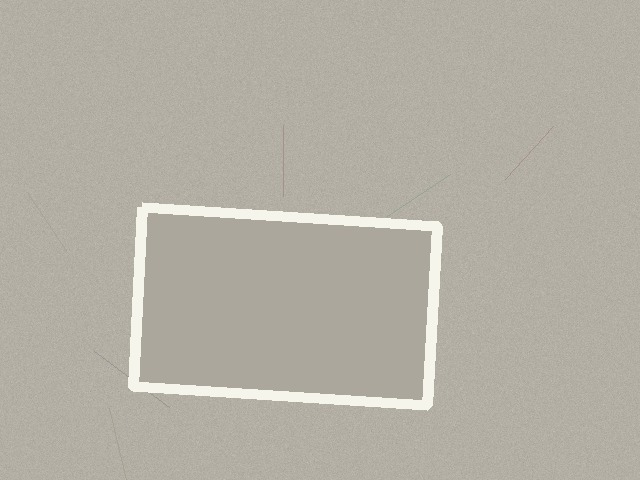parking_area: (133, 207, 437, 405)
